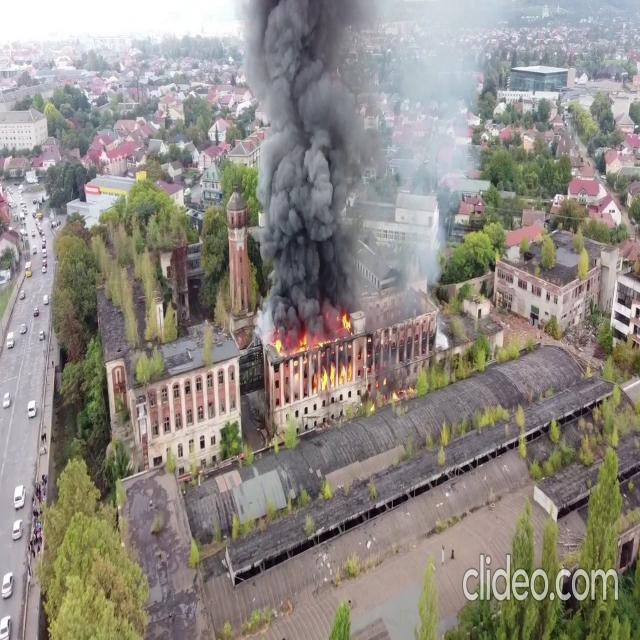Fire: (266, 306, 362, 358)
Smoke: (240, 1, 436, 340)
